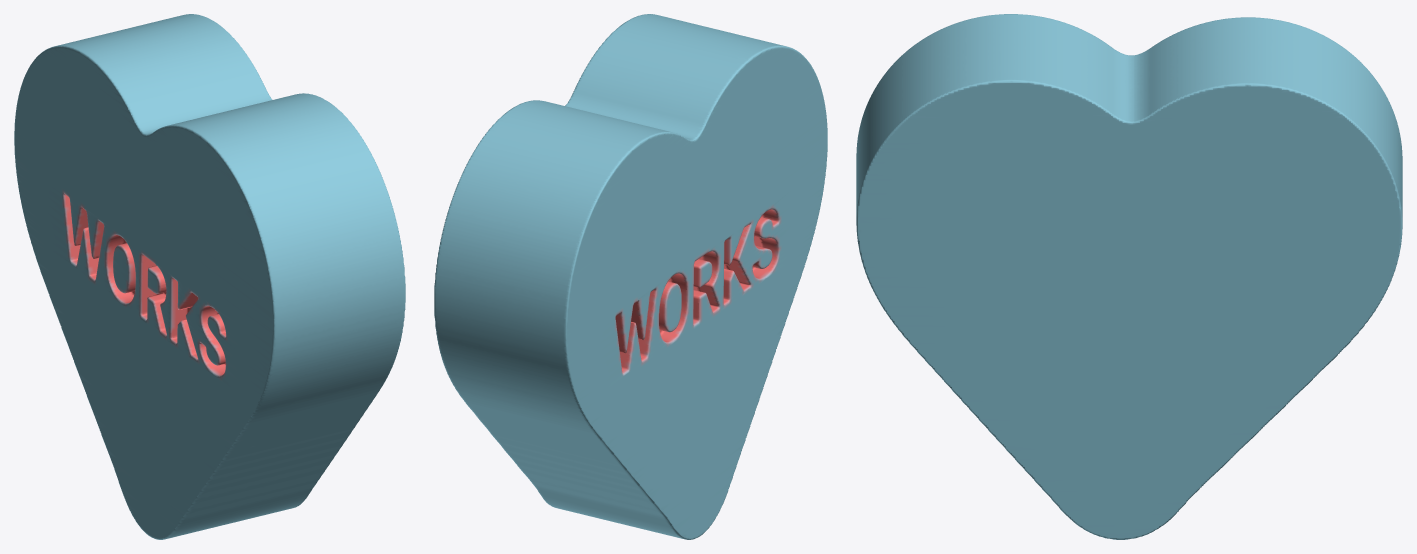
The model's file is workHeart_compressed.glb.
3 renders of one model, left to right at view 1: azimuth 30°, elevation 25°; view 2: azimuth 150°, elevation 25°; view 3: azimuth 270°, elevation 25°, orthographic. The views are drawn at different scales.
Bounding box in the file's own units: 66.41 × 210 × 227.
1 material, 1 textured.
